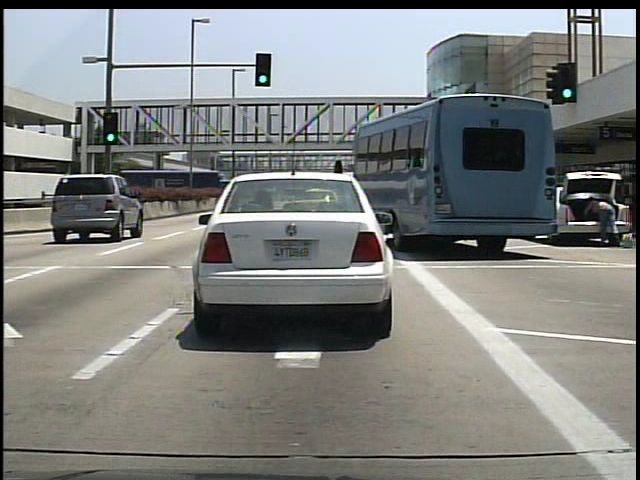person: (585, 188, 621, 251)
